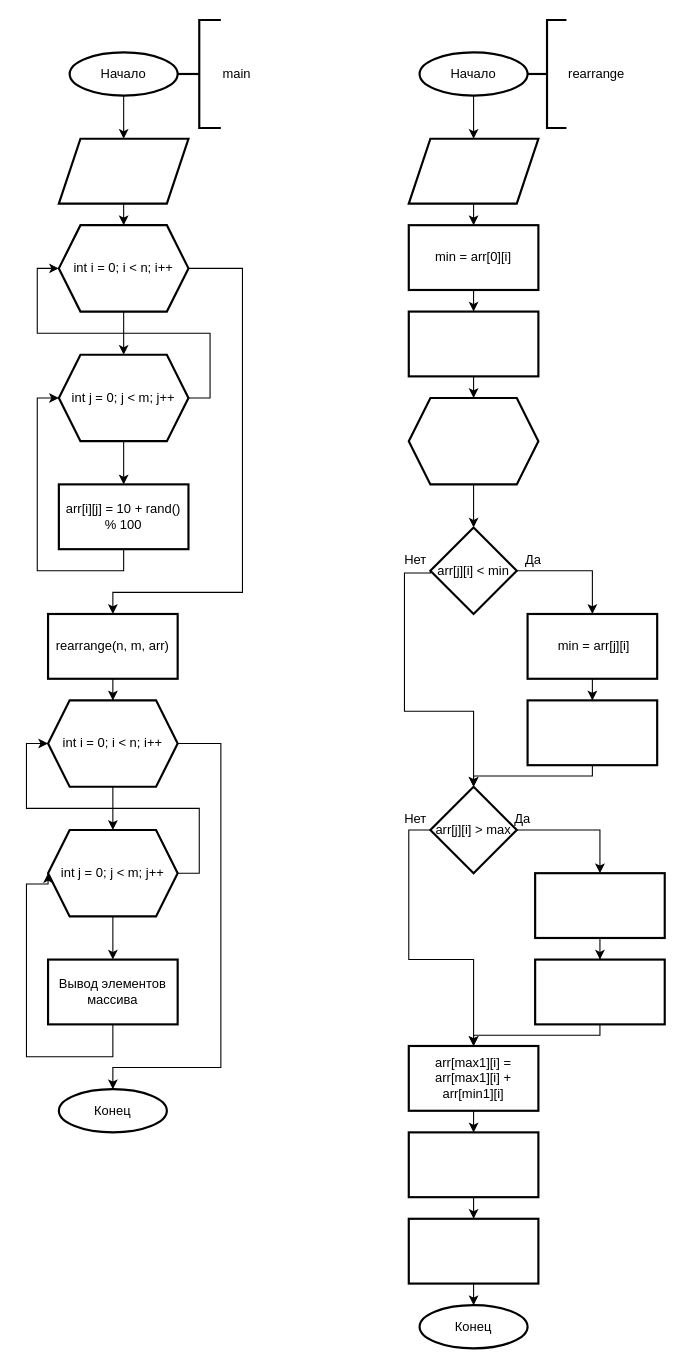
This 685x1367 diagram has some shape labels left out. Here are the shapes that lost their labels. From the top down, the centre of each, then its label:
At point 123,170: "Ввод n, m, arr[n][m]".
At point 473,170: "Ввод min, max, min1, max1".
At point 473,343: "max = arr[0][i]".
At point 473,440: "int j = 0; j < n; j++".
At point 592,732: "min1 = j".
At point 599,905: "max = arr[j][i]".
At point 599,991: "max1 = j".
At point 473,1164: "arr[min1][i] = arr[max1][i] - arr[min1][i]".
At point 473,1250: "arr[max1][i] = arr[max1][i] - arr[min1][i]".
